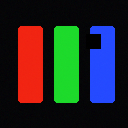1 square: (86, 34, 100, 48)
